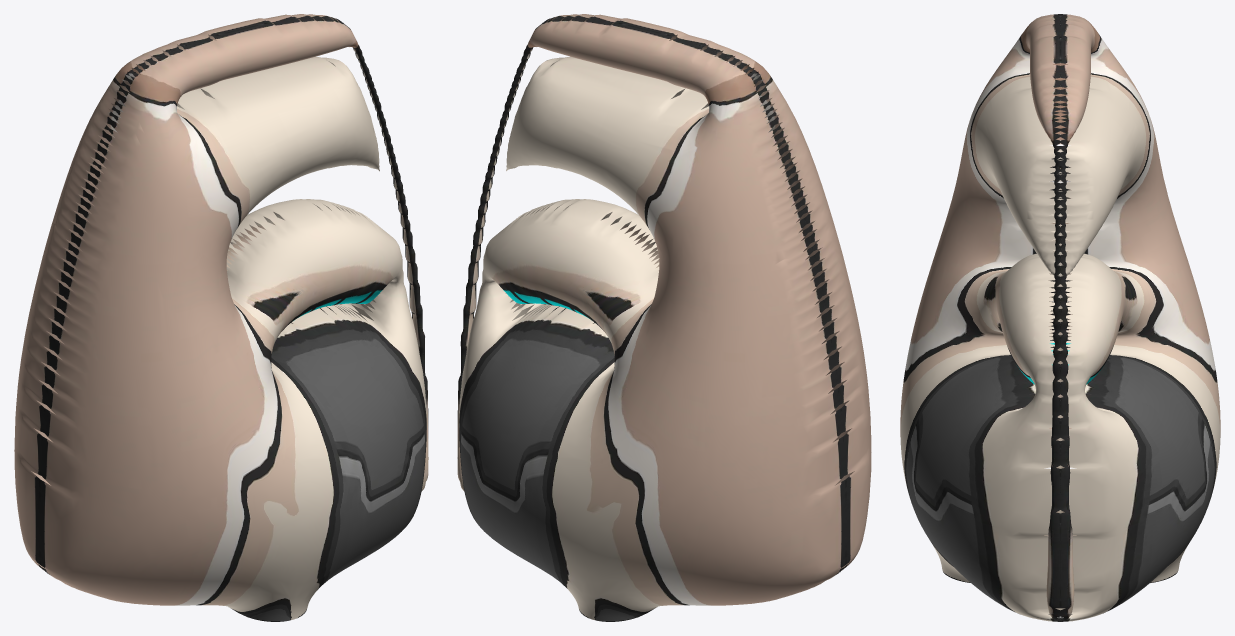
Rendered from upper_hatch.glb.
3 renders of one model, left to right at view 1: azimuth 30°, elevation 25°; view 2: azimuth 150°, elevation 25°; view 3: azimuth 270°, elevation 25°, orthographic. The views are drawn at different scales.
Visible parts, largest first — view 1: upper_hatch; view 2: upper_hatch; view 3: upper_hatch.
Boxes of the visible parts, x1,y1,x2,y2 form: upper_hatch: (14,14,428,621); upper_hatch: (457,14,871,621); upper_hatch: (900,14,1220,621).
Bounding box in the file's own units: 0.9852 × 1.33 × 0.7334.
Materials: 1 (1 with a texture image).
